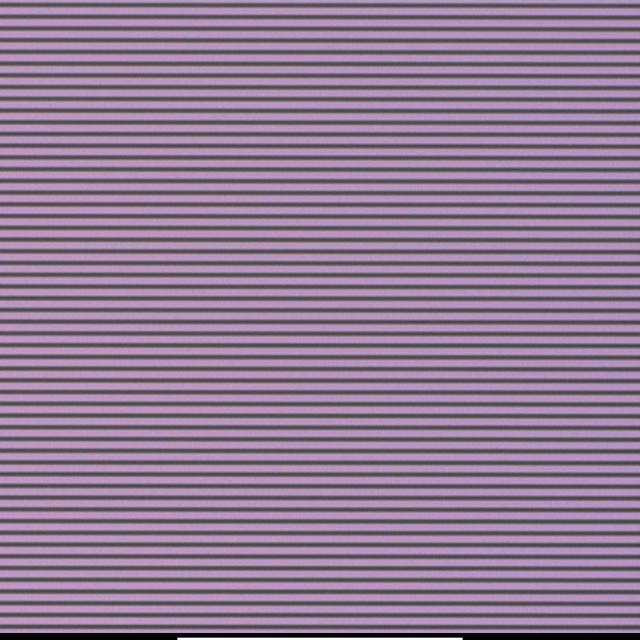nonvisual: (276, 291, 287, 305)
